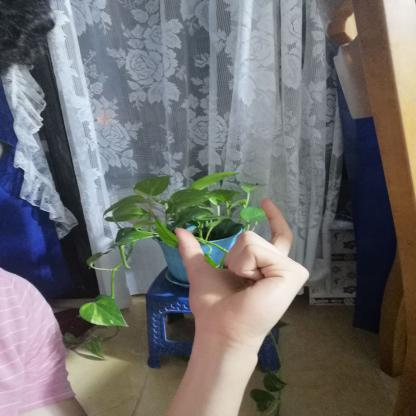NOON: (161, 187, 321, 358)
